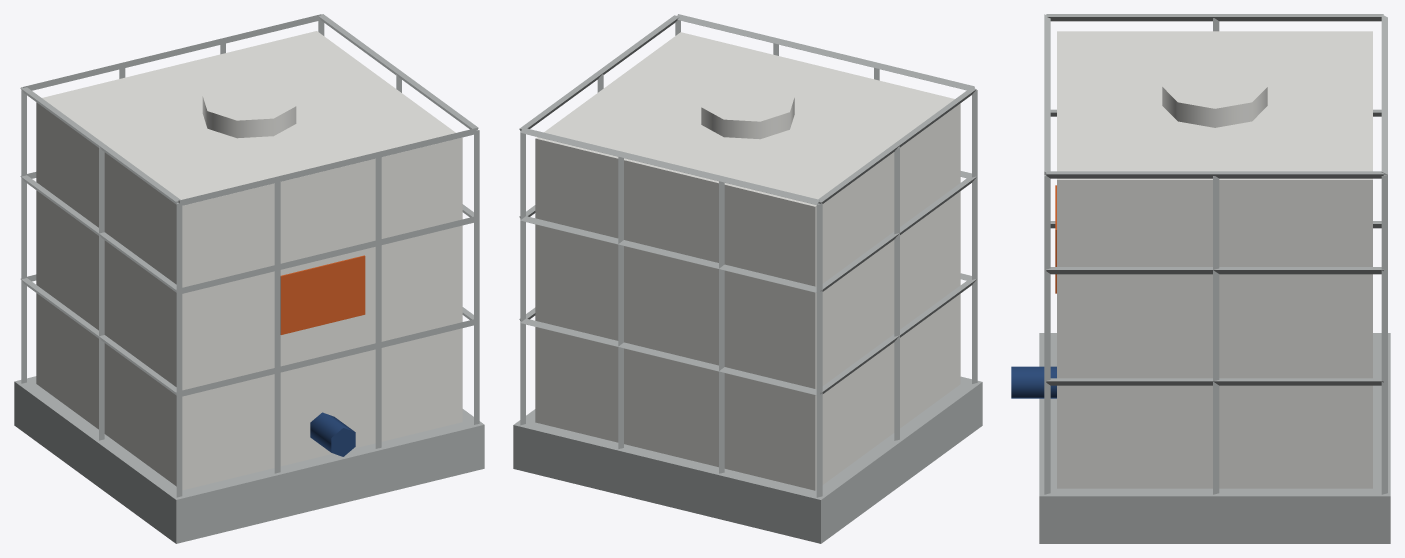
File: ibc_tank.glb
3 views of the same model, side by side, from view 1: azimuth 30°, elevation 25°; view 2: azimuth 150°, elevation 25°; view 3: azimuth 270°, elevation 25° (orthographic). The views are drawn at different scales.
Visible parts, largest first — view 1: ibc_tank; view 2: ibc_tank; view 3: ibc_tank.
Part boxes in pixels (box(x1,y1,x2,y2)): ibc_tank: box(14, 14, 484, 543); ibc_tank: box(513, 14, 982, 543); ibc_tank: box(1011, 14, 1390, 543).
Size of the model in its own units: 1.1 by 1.18 by 1.08.
Materials: 1 (1 with a texture image).
